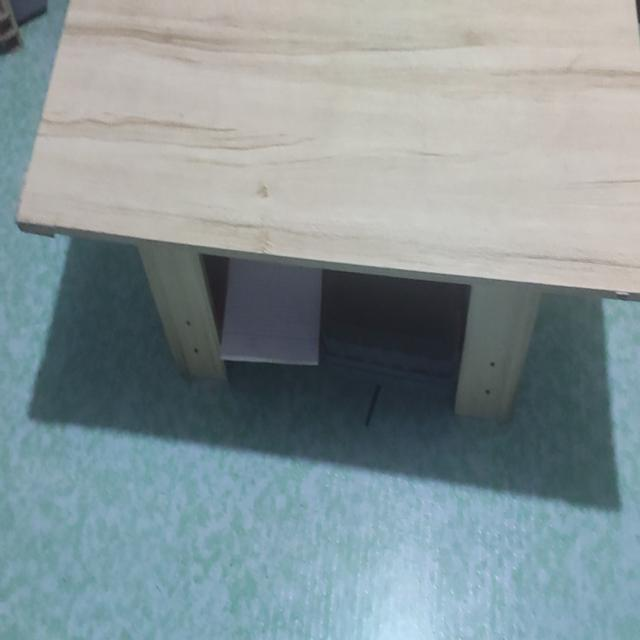table: (14, 0, 639, 434)
